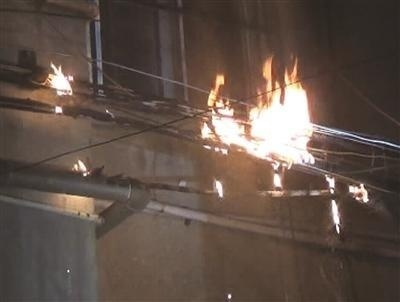fire: (200, 57, 319, 180), (42, 58, 76, 108), (349, 180, 369, 203), (70, 155, 93, 174), (213, 178, 225, 197)
